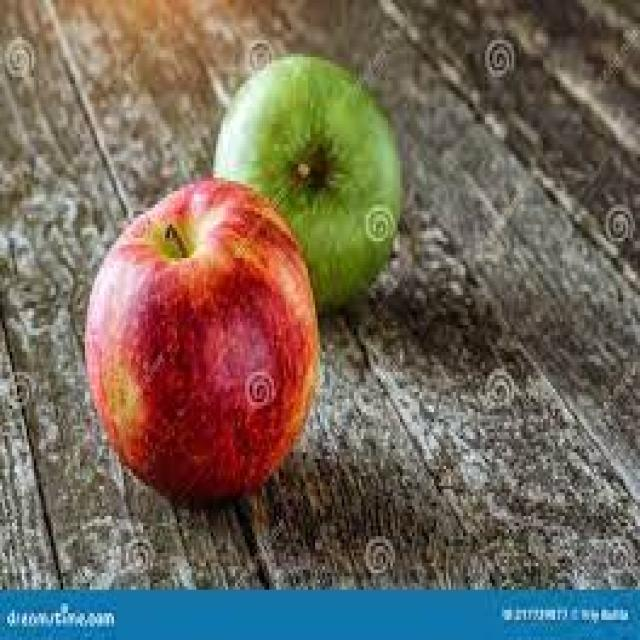non_orange: (13, 142, 347, 493), (210, 9, 430, 302)
